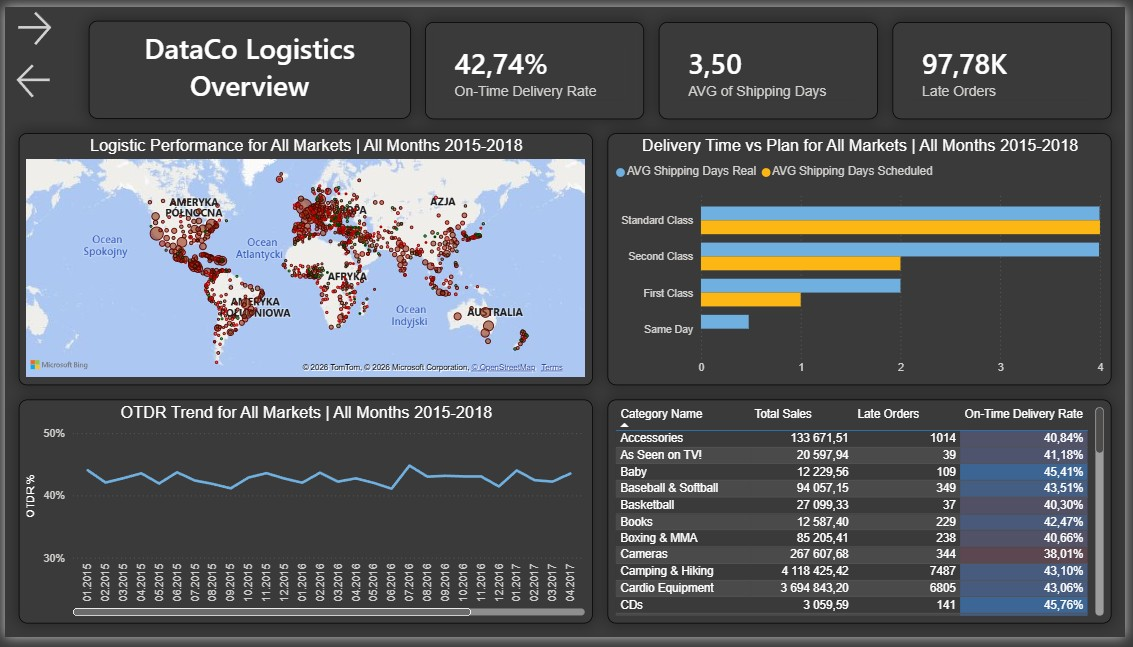

This screenshot's page, from the dashboard's own definition file:
{"tool":"powerbi","page":{"name":"Logistics Performance","canvas":[1280,720],"ordinal":1},"visuals":[{"type":"cardVisual","fields":{"Data":["_Measures.Late Orders"]},"box":[1014.3,16.7,250.4,111.3],"z":4000},{"type":"cardVisual","fields":{"Data":["Fact_Sales.OnTimeDeliveryRate"]},"box":[480.6,16.7,250.4,111.3],"z":5000},{"type":"cardVisual","fields":{"Data":["Avg(Fact_Sales.DaysShippingReal)"]},"box":[747.7,16.7,250,111.3],"z":6000},{"type":"map","fields":{"Category":["Dim_Order.Order_State"],"Size":["Count(Fact_Sales.Order_Id)"]},"box":[16,144,656,288],"z":7000},{"type":"lineChart","fields":{"Y":["_Measures.OnTimeDeliveryRate"],"Category":["Dim_Date.MonthYearNum"]},"box":[16,448,656,256],"z":8000},{"type":"clusteredBarChart","fields":{"Category":["Dim_Order.Shipping_Mode"],"Y":["_Measures.AVG Shipping Days Real","_Measures.AVG Shipping Days Scheduled"]},"box":[688,144,576,288],"z":9000},{"type":"tableEx","title":"Late Deliveries by Category","fields":{"Values":["Dim_Product.Category_Name","_Measures.Total Sales","_Measures.Late Orders","_Measures.OnTimeDeliveryRate"]},"box":[688,448,576,256],"z":10000},{"type":"textbox","box":[96,16,368,112],"z":11000},{"type":"group","id":"g1","title":"Filter Pane","box":[0,0,160,720],"z":12000},{"type":"actionButton","box":[7.9,59.4,96,49.1],"z":13000,"group":"g1"},{"type":"actionButton","box":[7.9,0,96,49.1],"z":14000,"group":"g1"}]}

Visuals, with their boxes in screenshot pixels (x1, y1, x2, y2), scaled from the page's 1280x720 canvas onto the 1133x647 screenshot:
cardVisual - _Measures.Late Orders: {"x1": 898, "y1": 15, "x2": 1119, "y2": 115}
cardVisual - Fact_Sales.OnTimeDeliveryRate: {"x1": 425, "y1": 15, "x2": 647, "y2": 115}
cardVisual - Avg(Fact_Sales.DaysShippingReal): {"x1": 662, "y1": 15, "x2": 883, "y2": 115}
map - Dim_Order.Order_State x Count(Fact_Sales.Order_Id): {"x1": 14, "y1": 129, "x2": 595, "y2": 388}
lineChart - _Measures.OnTimeDeliveryRate x Dim_Date.MonthYearNum: {"x1": 14, "y1": 403, "x2": 595, "y2": 633}
clusteredBarChart - Dim_Order.Shipping_Mode x _Measures.AVG Shipping Days Real: {"x1": 609, "y1": 129, "x2": 1119, "y2": 388}
"Late Deliveries by Category" tableEx: {"x1": 609, "y1": 403, "x2": 1119, "y2": 633}
textbox: {"x1": 85, "y1": 14, "x2": 411, "y2": 115}
"Filter Pane" group: {"x1": 0, "y1": 0, "x2": 142, "y2": 646}
actionButton: {"x1": 7, "y1": 53, "x2": 92, "y2": 97}
actionButton: {"x1": 7, "y1": 0, "x2": 92, "y2": 44}
